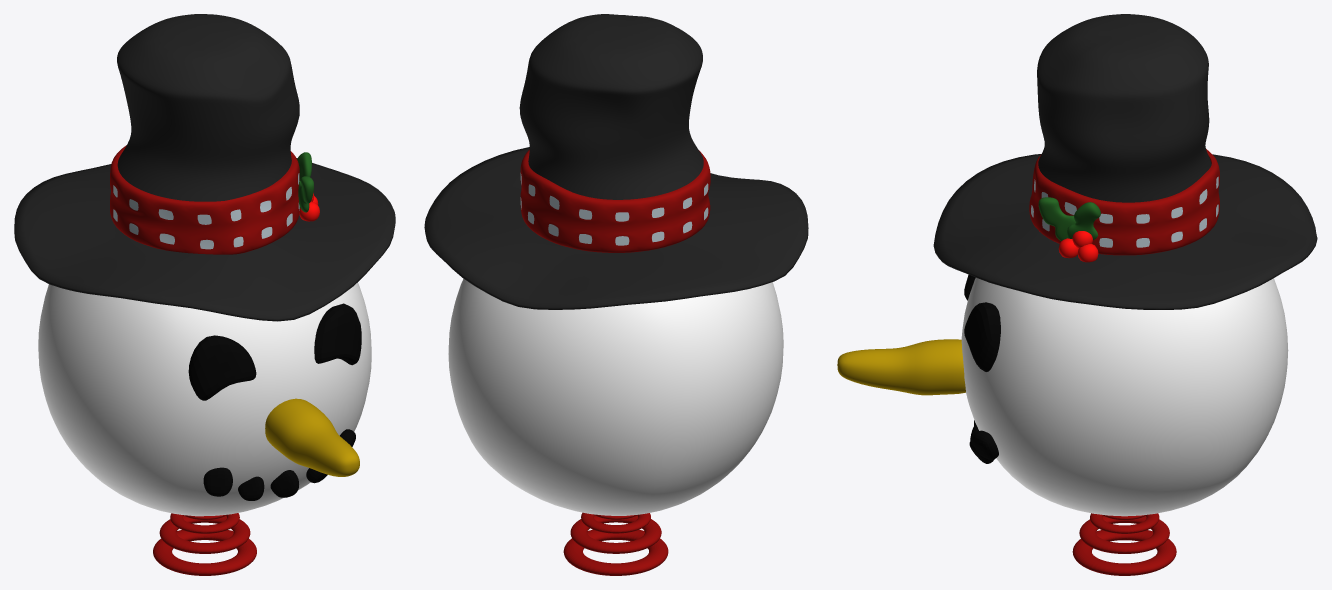
Rendered from frosty_topper.glb.
The picture shows the model from 3 angles, left to right: view 1: azimuth 30°, elevation 25°; view 2: azimuth 150°, elevation 25°; view 3: azimuth 270°, elevation 25°; orthographic projection.
Parts seen in each view (by area): view 1: Frosty_Topper; view 2: Frosty_Topper; view 3: Frosty_Topper.
Part boxes in pixels (box(x1,y1,x2,y2)): Frosty_Topper: box(14, 14, 395, 575); Frosty_Topper: box(424, 14, 808, 575); Frosty_Topper: box(837, 14, 1317, 575).
Size of the model in its own units: 1.88 by 2.83 by 2.35.
